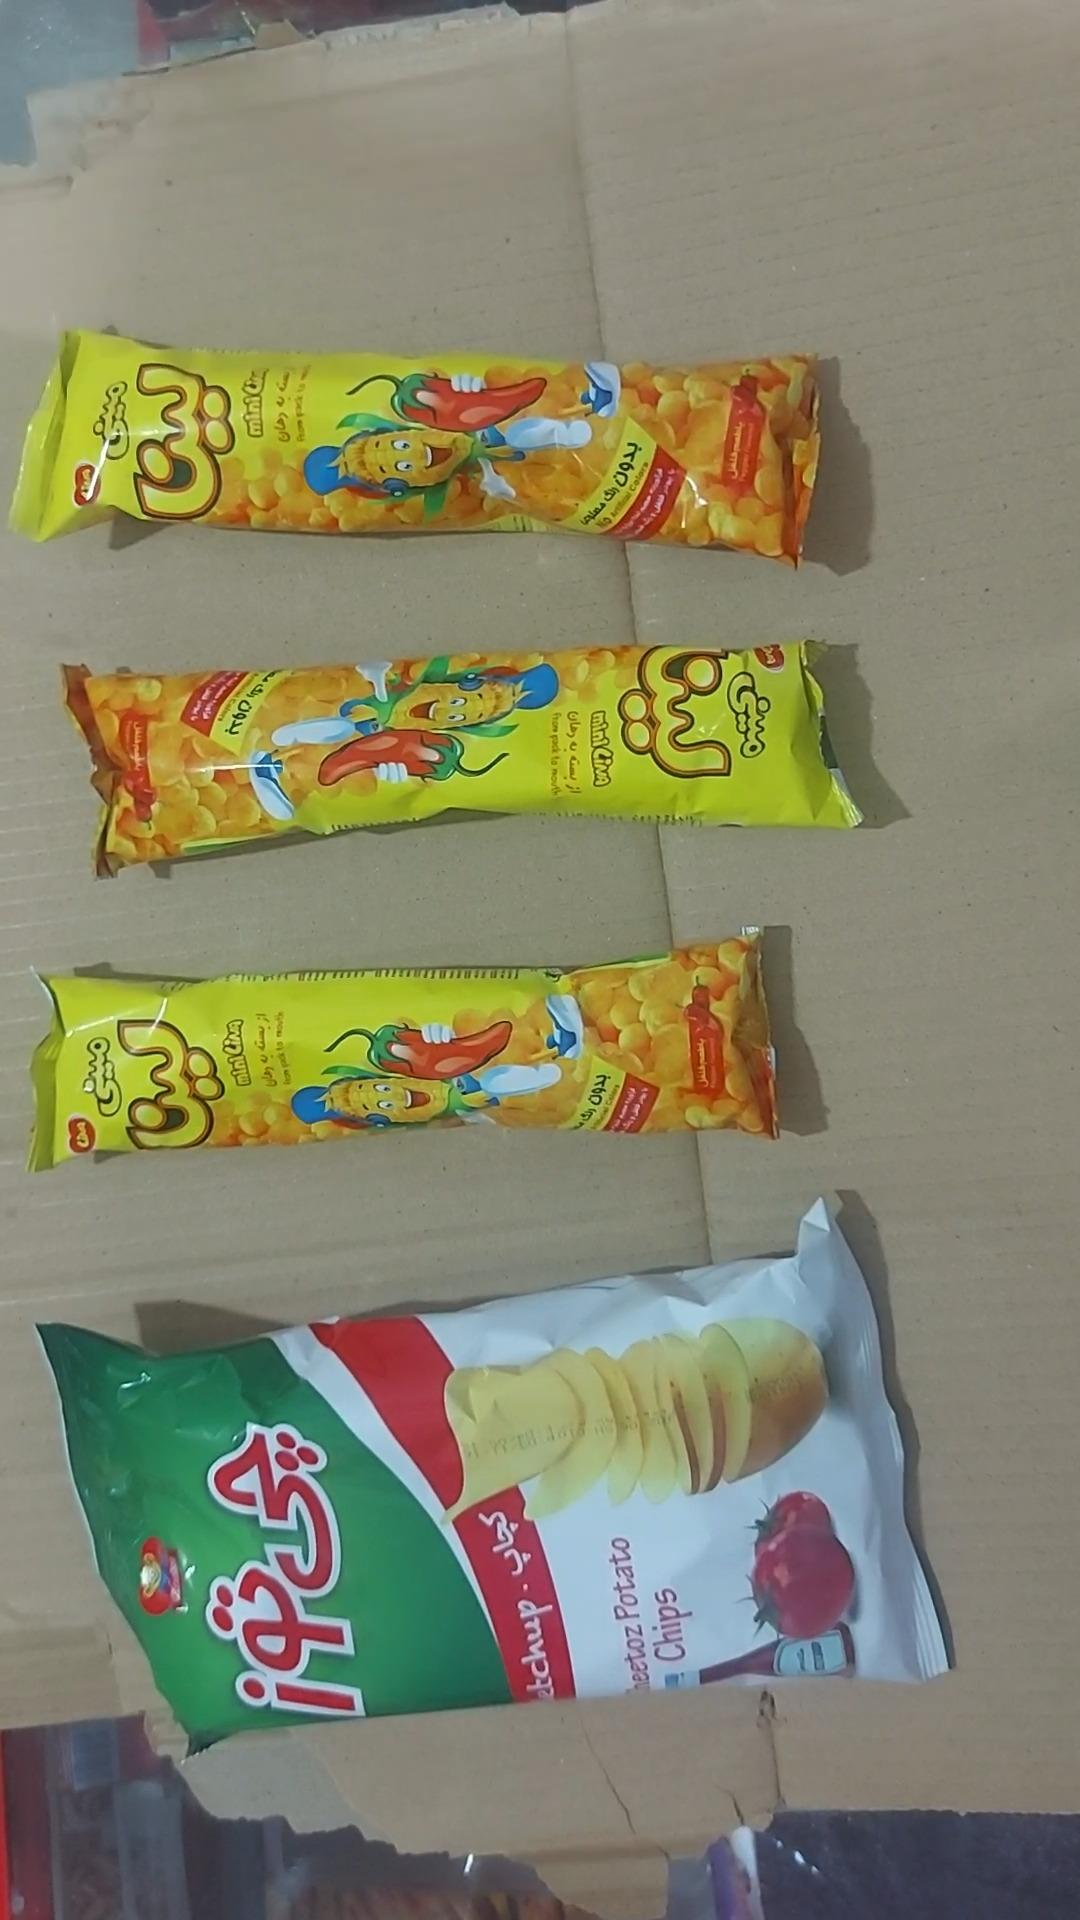Cheetoz ketchup chips: (34, 1200, 957, 1756)
Mini Lina: (9, 328, 822, 568), (61, 640, 864, 880), (26, 926, 779, 1174)
